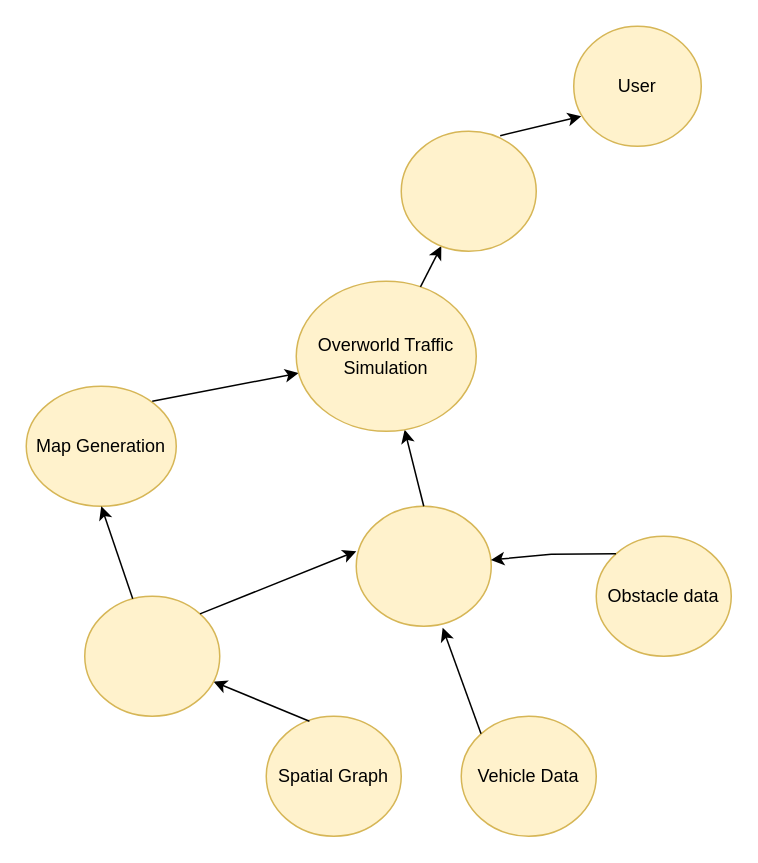
Image size: 758x863. Some labels were removed from this diagram. The centre of each missing label's shape, as x and y in pixels:
"Neural Network And Training" belongs at point (423, 565).
"Road Generation" belongs at point (151, 655).
"Simulation Results" belongs at point (468, 190).
